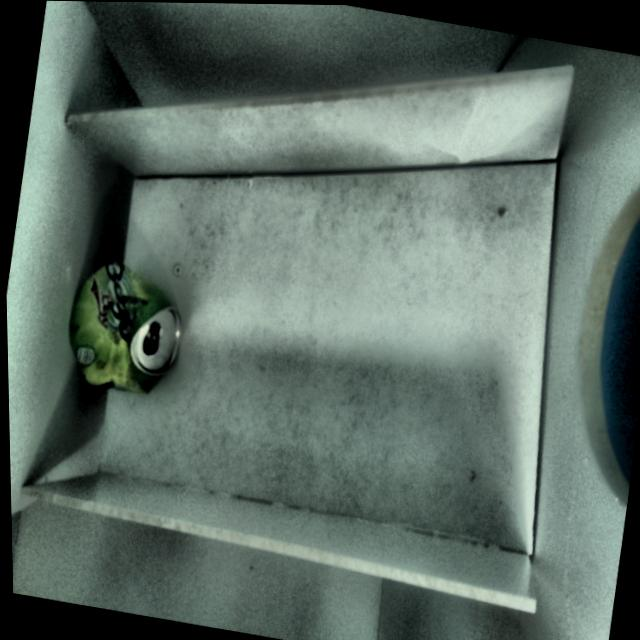Cans: (43, 240, 203, 414)
